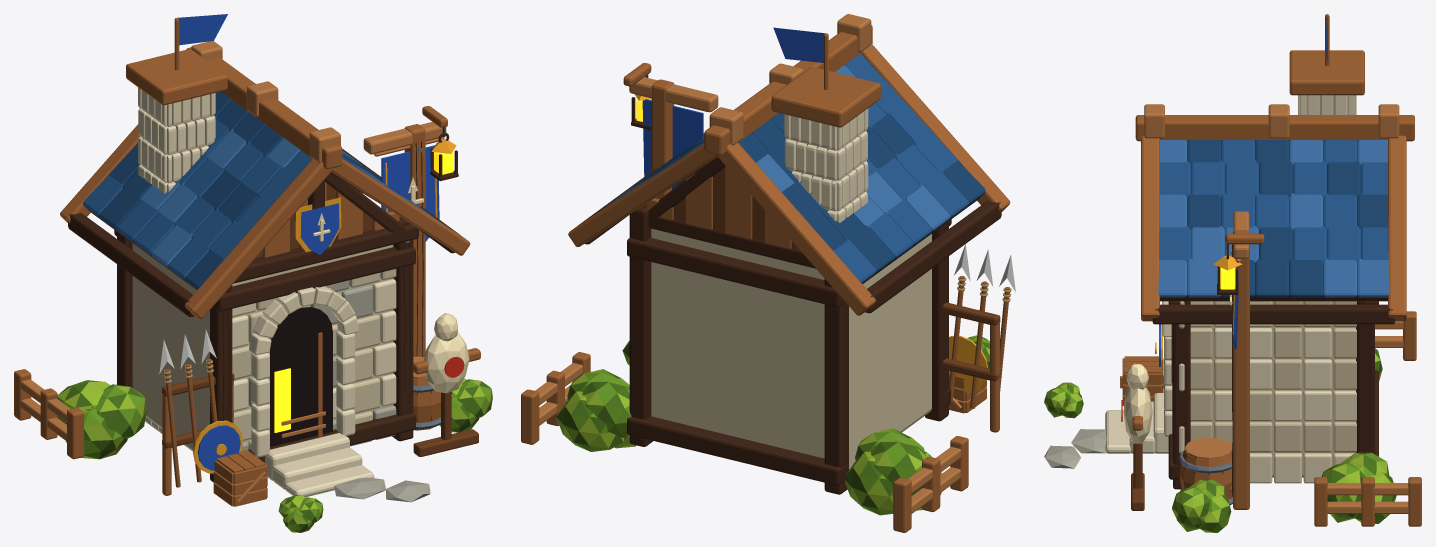
File: barracks.glb
3 renders of one model, left to right at view 1: azimuth 30°, elevation 25°; view 2: azimuth 150°, elevation 25°; view 3: azimuth 270°, elevation 25°, orthographic. The views are drawn at different scales.
Visible parts, largest first — view 1: Cottage walls, Open barracks doorway, Carved roof verge, Wall cross beam.002, Barracks tower cap, Ridge timber, Roof eave, Corner upright.002, Gable tie beam, Carved roof verge.002, Banner post, Corner upright (+61 smaller); view 2: Cottage walls, Carved roof verge.001, Wall cross beam.001, Wall cross beam.003, Corner upright.003, Barracks tower cap, Corner upright.001, Roof eave, Carved roof verge.003, Ridge timber, Carved roof verge, Corner upright (+50 smaller); view 3: Ridge timber, Roof eave.001, Banner post, Carved roof verge.003, Carved roof verge.002, Barracks tower cap, Cottage walls, Corner upright.003, Corner upright.002, Soft edged blue roof tile.067, Soft edged blue roof tile.068, Soft edged blue roof tile.069 (+81 smaller).
Boxes of the visible parts, bbox=[...] form: Cottage walls: bbox=[132, 243, 393, 451]; Open barracks doorway: bbox=[270, 307, 332, 446]; Carved roof verge: bbox=[184, 159, 331, 319]; Wall cross beam.002: bbox=[213, 247, 415, 311]; Barracks tower cap: bbox=[126, 49, 227, 105]; Ridge timber: bbox=[186, 47, 342, 169]; Roof eave: bbox=[68, 213, 194, 316]; Corner upright.002: bbox=[392, 217, 413, 441]; Gable tie beam: bbox=[233, 224, 418, 283]; Carved roof verge.002: bbox=[331, 158, 470, 255]; Banner post: bbox=[404, 124, 425, 357]; Corner upright: bbox=[210, 285, 232, 482]; Cottage walls: bbox=[651, 228, 931, 469]; Carved roof verge.001: bbox=[717, 142, 875, 315]; Wall cross beam.001: bbox=[627, 416, 846, 485]; Wall cross beam.003: bbox=[627, 238, 844, 306]; Corner upright.003: bbox=[629, 204, 652, 446]; Barracks tower cap: bbox=[771, 67, 880, 127]; Corner upright.001: bbox=[824, 279, 848, 494]; Roof eave: bbox=[865, 201, 1001, 313]; Carved roof verge.003: bbox=[568, 144, 717, 246]; Ridge timber: bbox=[704, 25, 872, 155]; Carved roof verge: bbox=[860, 43, 1010, 211]; Corner upright: bbox=[925, 225, 948, 421]; Ridge timber: bbox=[1135, 115, 1414, 141]; Roof eave.001: bbox=[1152, 304, 1395, 324]; Banner post: bbox=[1233, 230, 1249, 509]; Carved roof verge.003: bbox=[1388, 135, 1406, 321]; Carved roof verge.002: bbox=[1141, 135, 1159, 321]; Barracks tower cap: bbox=[1289, 50, 1364, 95]; Cottage walls: bbox=[1190, 301, 1356, 477]; Corner upright.003: bbox=[1357, 301, 1374, 454]; Corner upright.002: bbox=[1173, 301, 1190, 489]; Soft edged blue roof tile.067: bbox=[1255, 258, 1289, 297]; Soft edged blue roof tile.068: bbox=[1289, 258, 1323, 297]; Soft edged blue roof tile.069: bbox=[1323, 258, 1357, 297].
Size of the model in its own units: 3.99 by 4.4 by 3.61.
